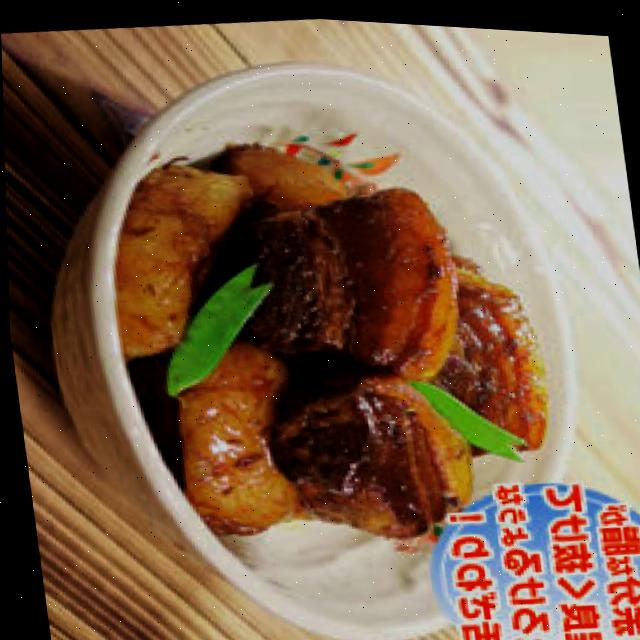猪肉菜式: (92, 110, 562, 515)
